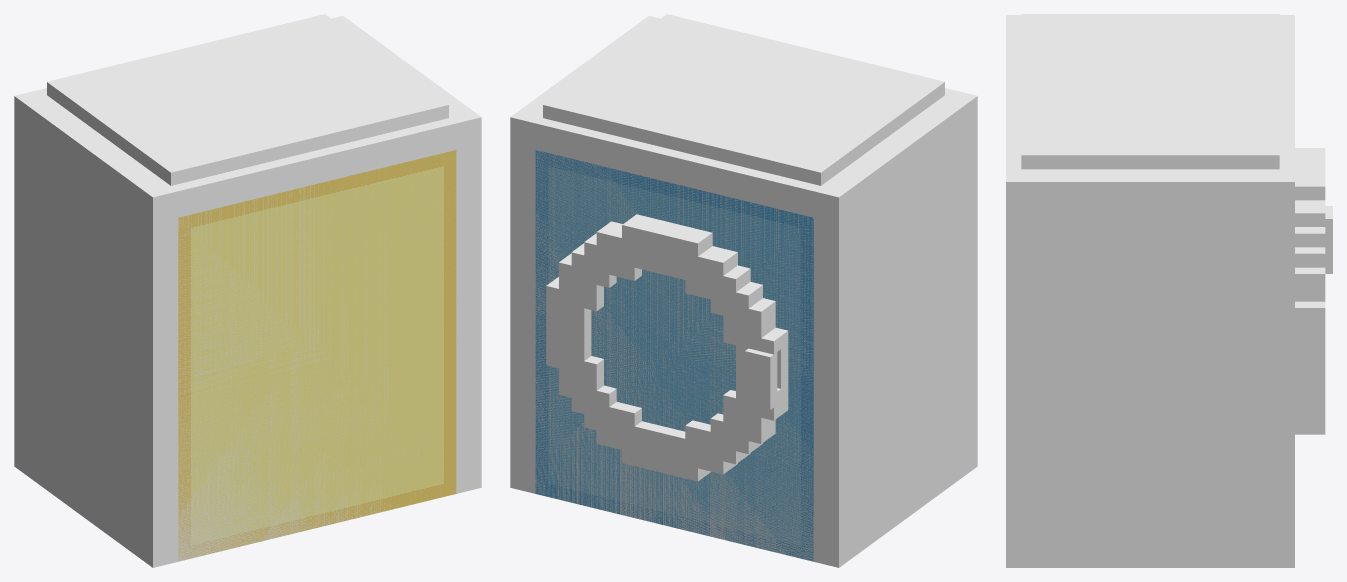
The picture shows the model from 3 angles, left to right: view 1: azimuth 30°, elevation 25°; view 2: azimuth 150°, elevation 25°; view 3: azimuth 270°, elevation 25°; orthographic projection. The views are drawn at different scales.
Visible parts, largest first — view 1: mesh, блок, вверх; view 2: mesh, блок, вверх, group, внешний_круг2, внешний круг, ручка; view 3: mesh, вверх, внешний круг, внешний_круг2, ручка.
Boxes of the visible parts, x1,y1,x2,y2 form: mesh: (14, 16, 481, 567); блок: (178, 150, 456, 561); вверх: (47, 14, 448, 185); mesh: (510, 16, 977, 567); блок: (535, 150, 813, 561); вверх: (543, 14, 944, 185); group: (559, 241, 748, 464); внешний_круг2: (546, 219, 780, 481); внешний круг: (554, 214, 788, 475); ручка: (745, 348, 777, 409); mesh: (1006, 15, 1294, 567); вверх: (1021, 14, 1279, 169); внешний круг: (1295, 148, 1310, 434); внешний_круг2: (1310, 148, 1325, 434); ручка: (1325, 206, 1332, 273).
Size of the model in its own units: 1.62 by 1.81 by 1.34.
3 materials, 1 textured.
